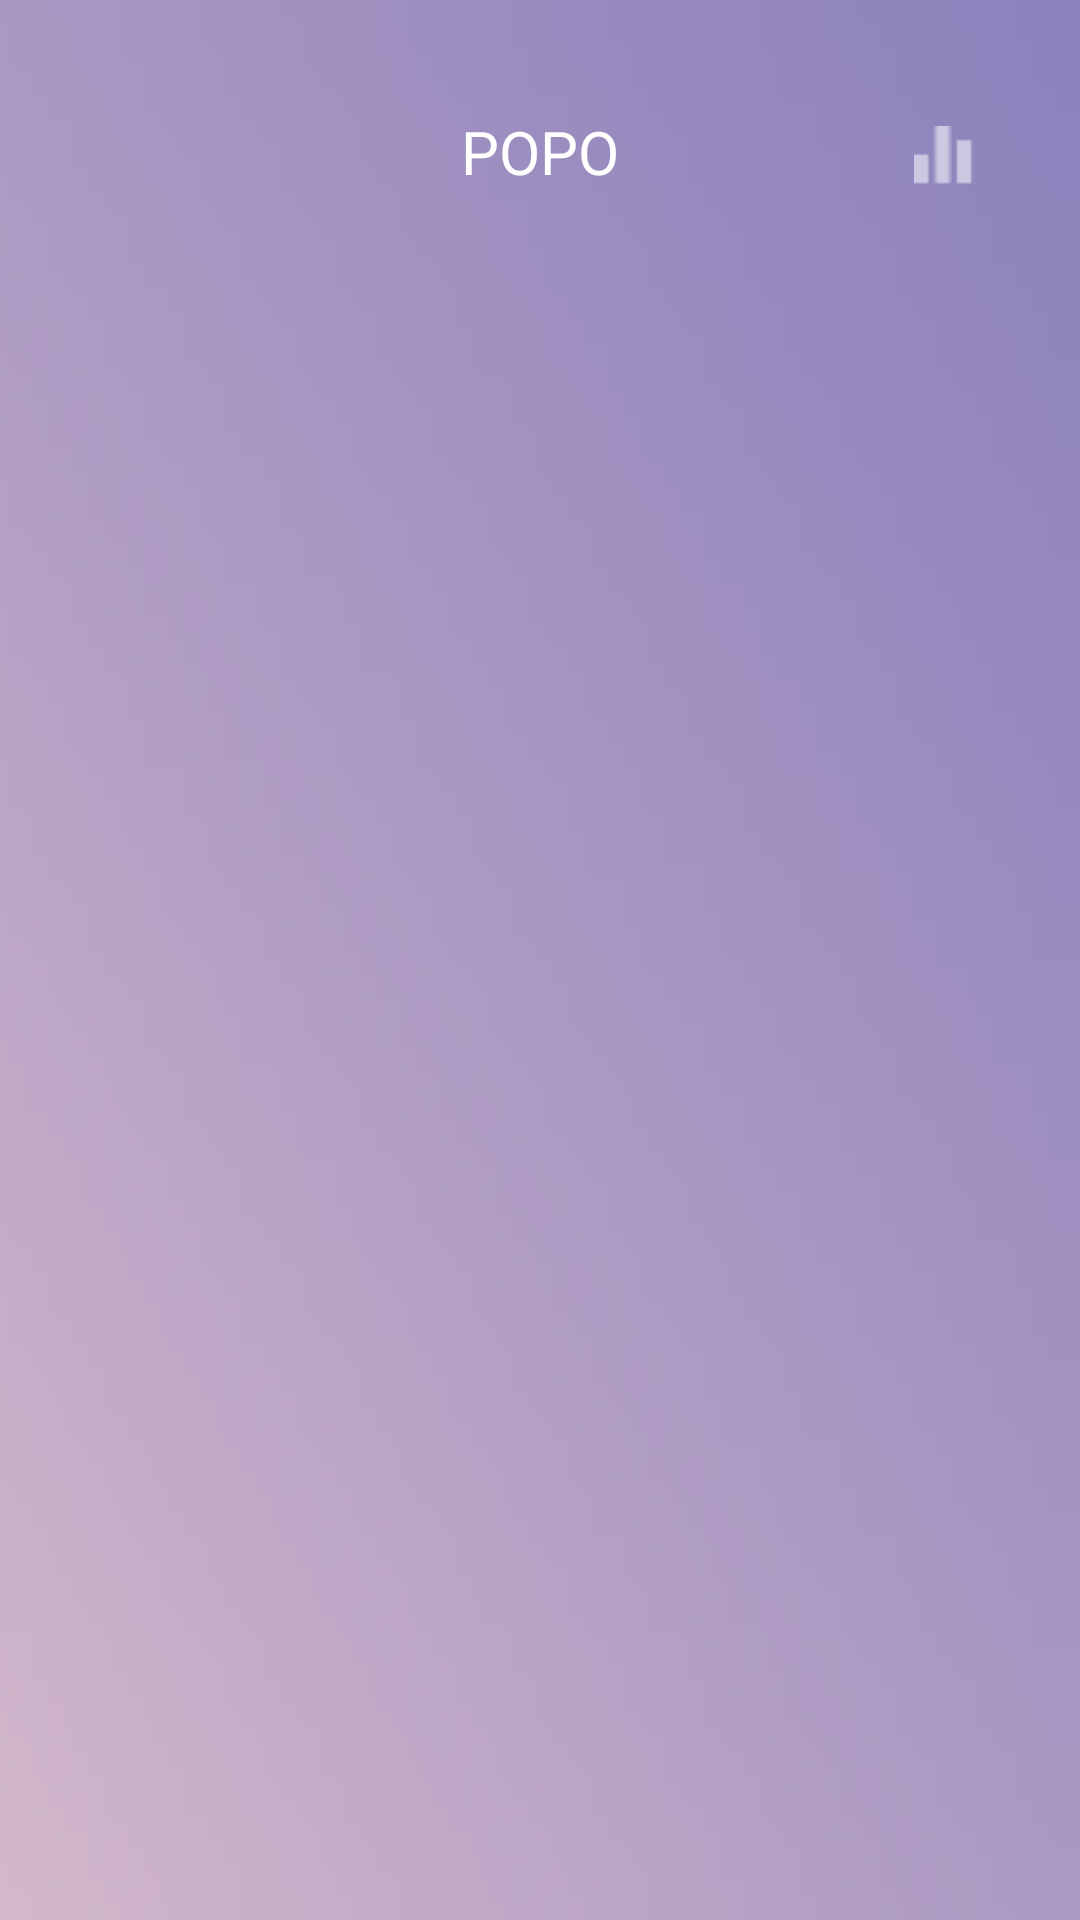

Where icons sit on this 1080*1920 app screen, as (x1, y1, x2, y2):
charticon: (914, 126, 972, 184)
